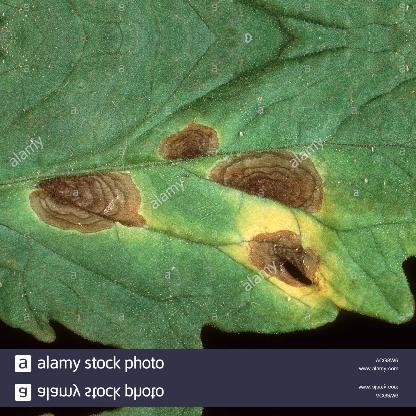Early-Blight: (3, 64, 404, 342)
